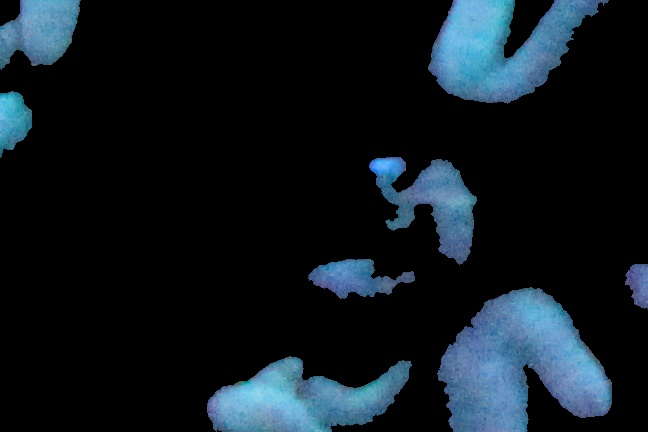larvae: (502, 287, 609, 419), (437, 314, 536, 432), (297, 353, 422, 428), (423, 1, 511, 86), (205, 383, 317, 432), (12, 1, 82, 69)
